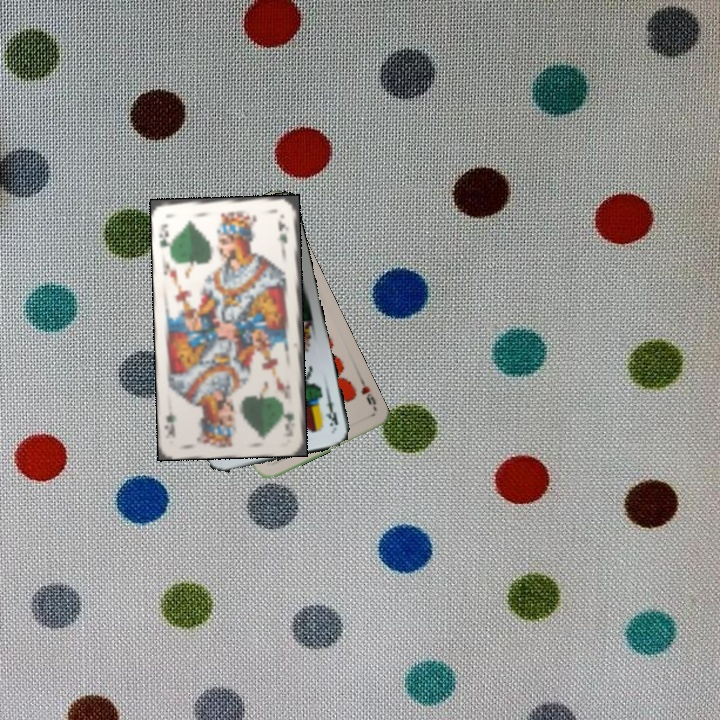EK: (321, 391, 341, 431)
GK: (155, 221, 175, 255), (281, 409, 296, 434)
H9: (355, 374, 379, 412)
